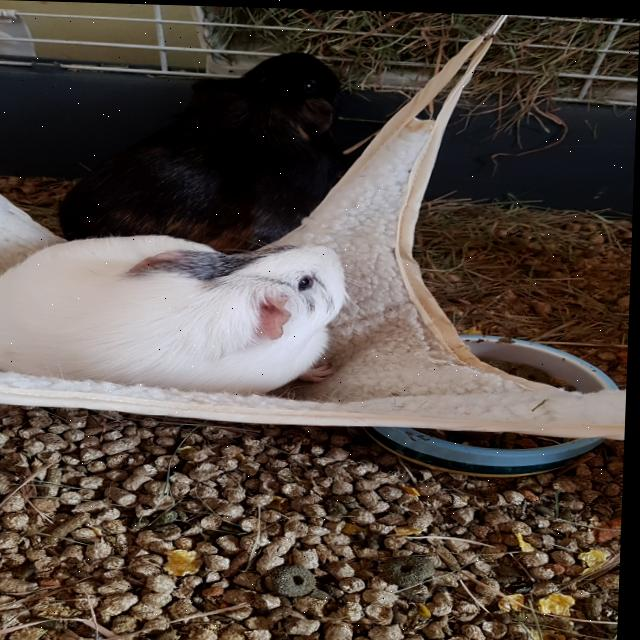guinea pig: (55, 42, 360, 247), (0, 228, 355, 396)
